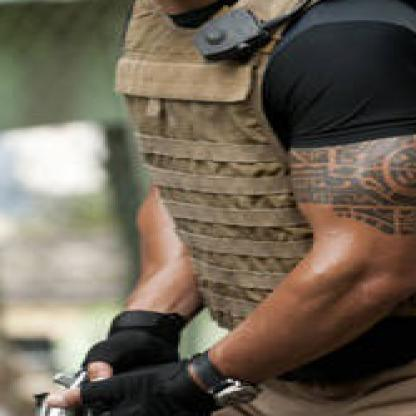gun: (0, 373, 233, 414)
